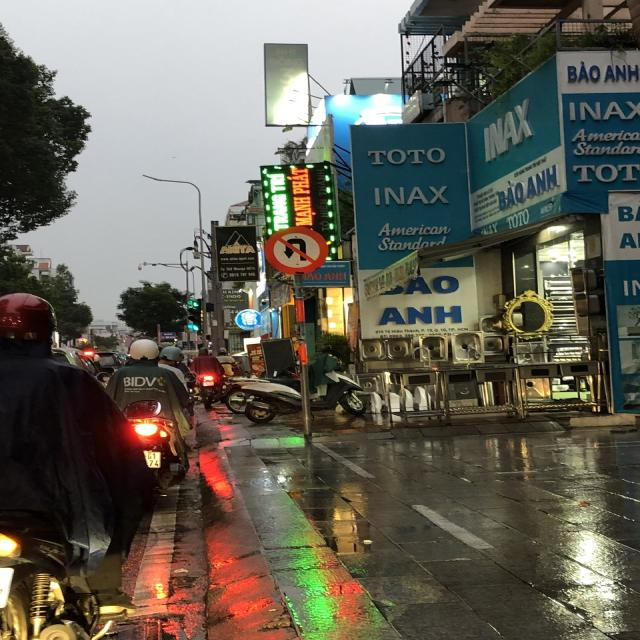Bien bao cam quay dau xe: (261, 223, 332, 278)
